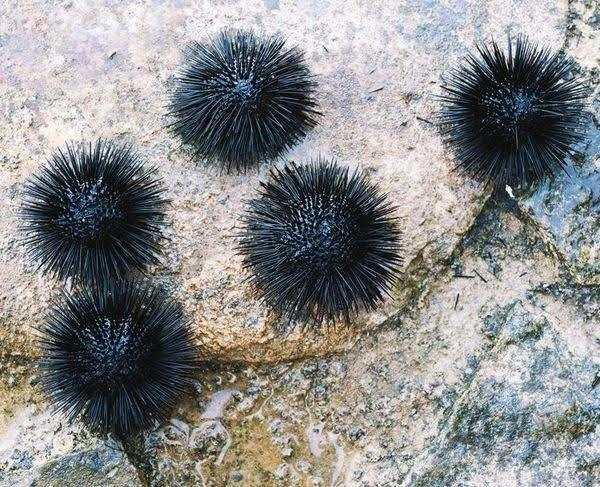urchin: (240, 161, 398, 320), (41, 282, 194, 428), (439, 41, 584, 191), (28, 146, 165, 284), (176, 33, 315, 167)
